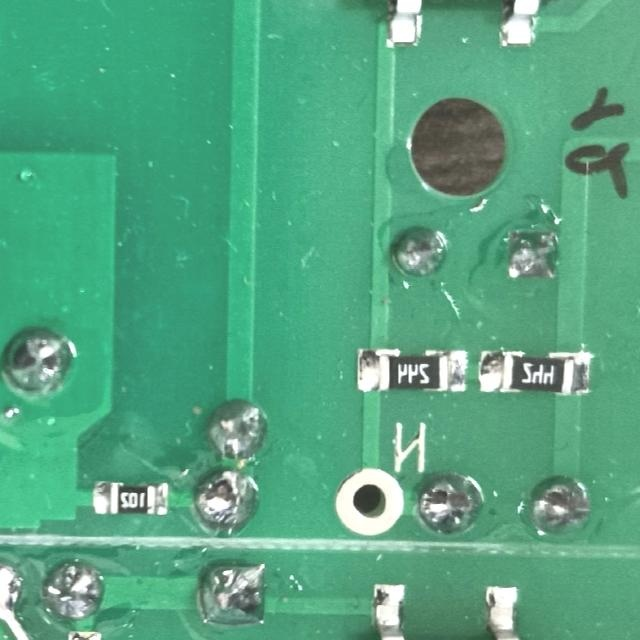chip-resistor: (478, 347, 594, 397), (352, 344, 468, 393), (90, 477, 171, 516)
